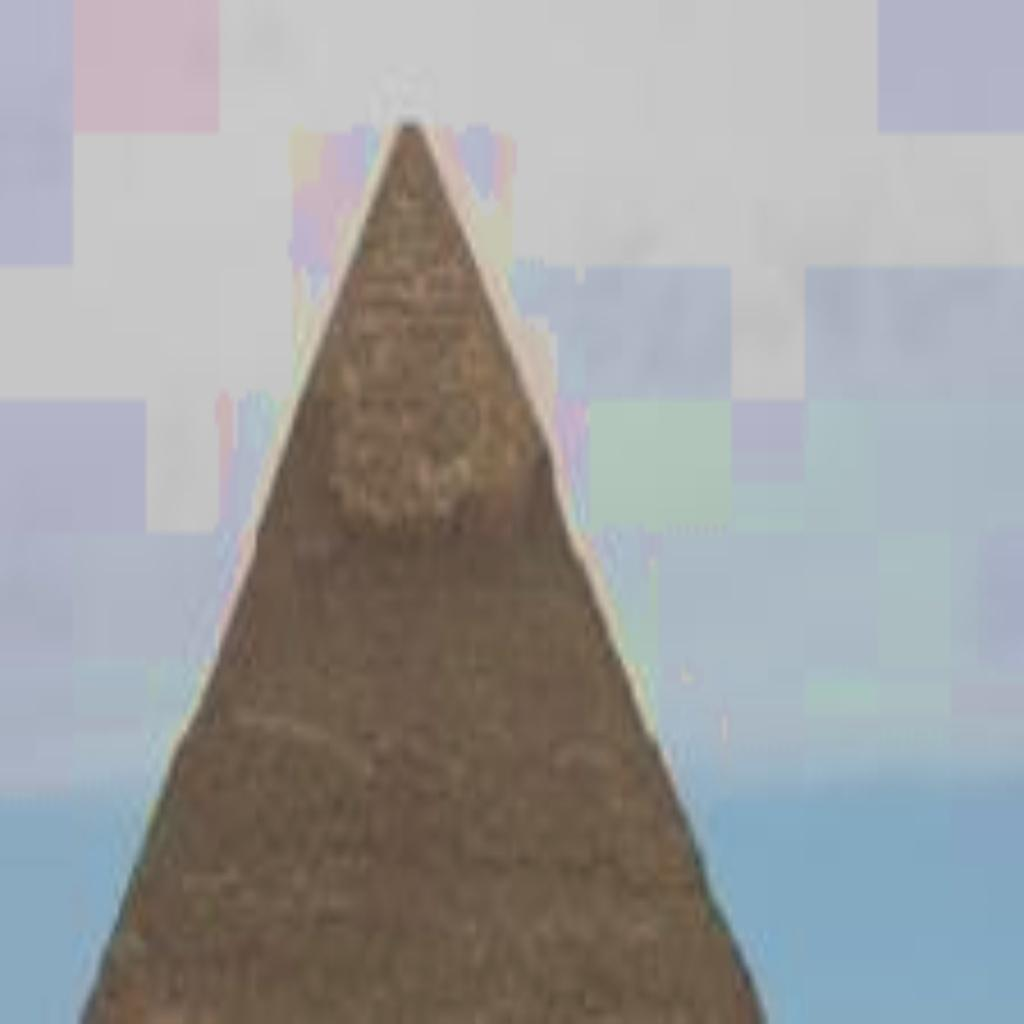Great Pyramids of Giza: (68, 108, 772, 1016)
